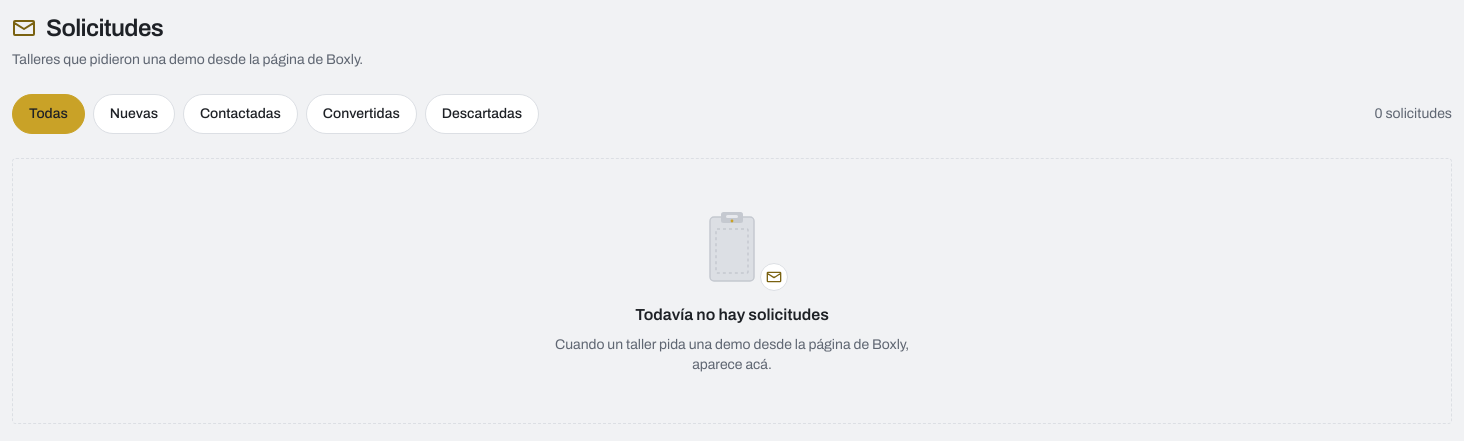
it: PlataformaSolicitudes › muestra el vacío según el filtro
Expected: the heading "Todavía no hay solicitudes" is shown, left=635, top=306, right=829, bottom=323
What coordinates should you click on to do the following:
click the button "Descartadas"
I would click on:
 (482, 114)
Its box is left=425, top=94, right=539, bottom=134.
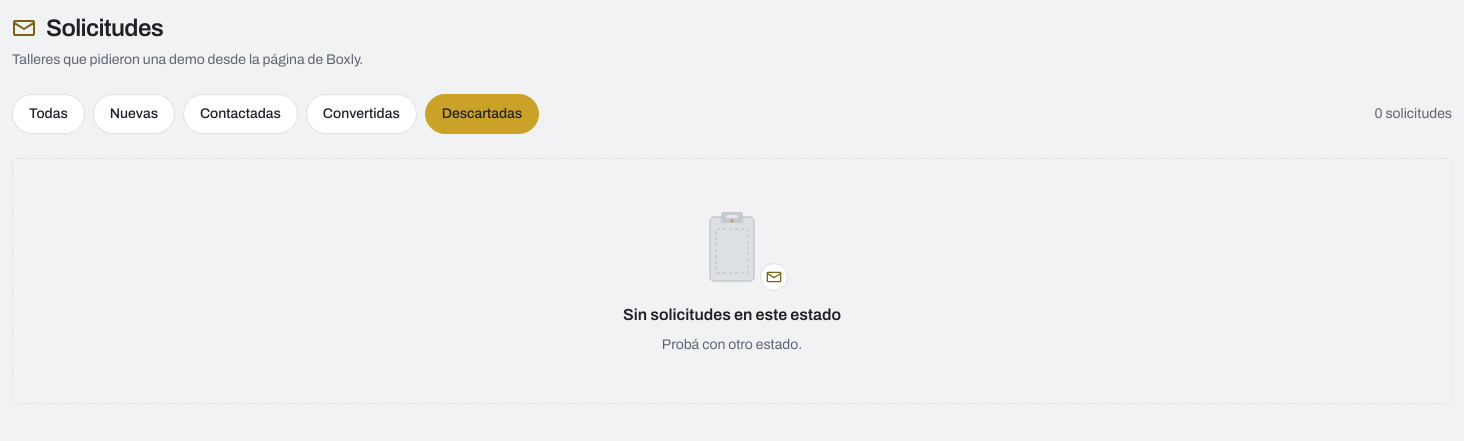
Expected: the heading "Sin solicitudes en este estado" is shown, left=623, top=306, right=841, bottom=323
